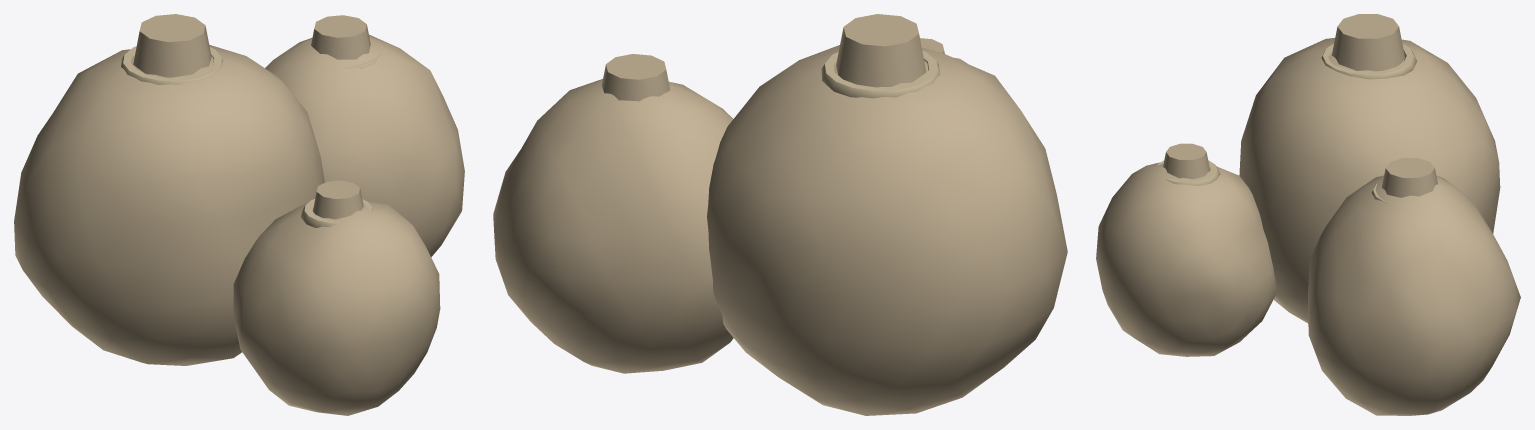
Rendered from sacks-v01.glb.
3 renders of one model, left to right at view 1: azimuth 30°, elevation 25°; view 2: azimuth 150°, elevation 25°; view 3: azimuth 270°, elevation 25°, orthographic. The views are drawn at different scales.
Parts seen in each view (by area): view 1: sacks; view 2: sacks; view 3: sacks.
Boxes of the visible parts, left/top/right/bottom form: sacks: left=14, top=14, right=464, bottom=415; sacks: left=493, top=14, right=1067, bottom=415; sacks: left=1096, top=14, right=1520, bottom=415.
Bounding box in the file's own units: 1.68 × 1.11 × 1.52.
